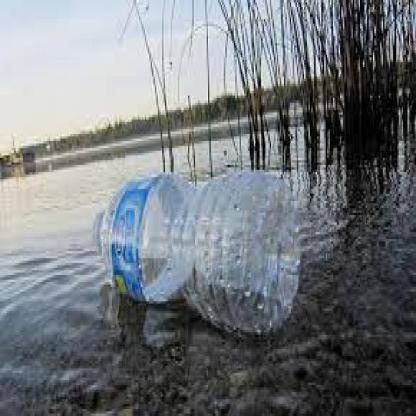Plastic Bottle: (92, 172, 300, 332)
